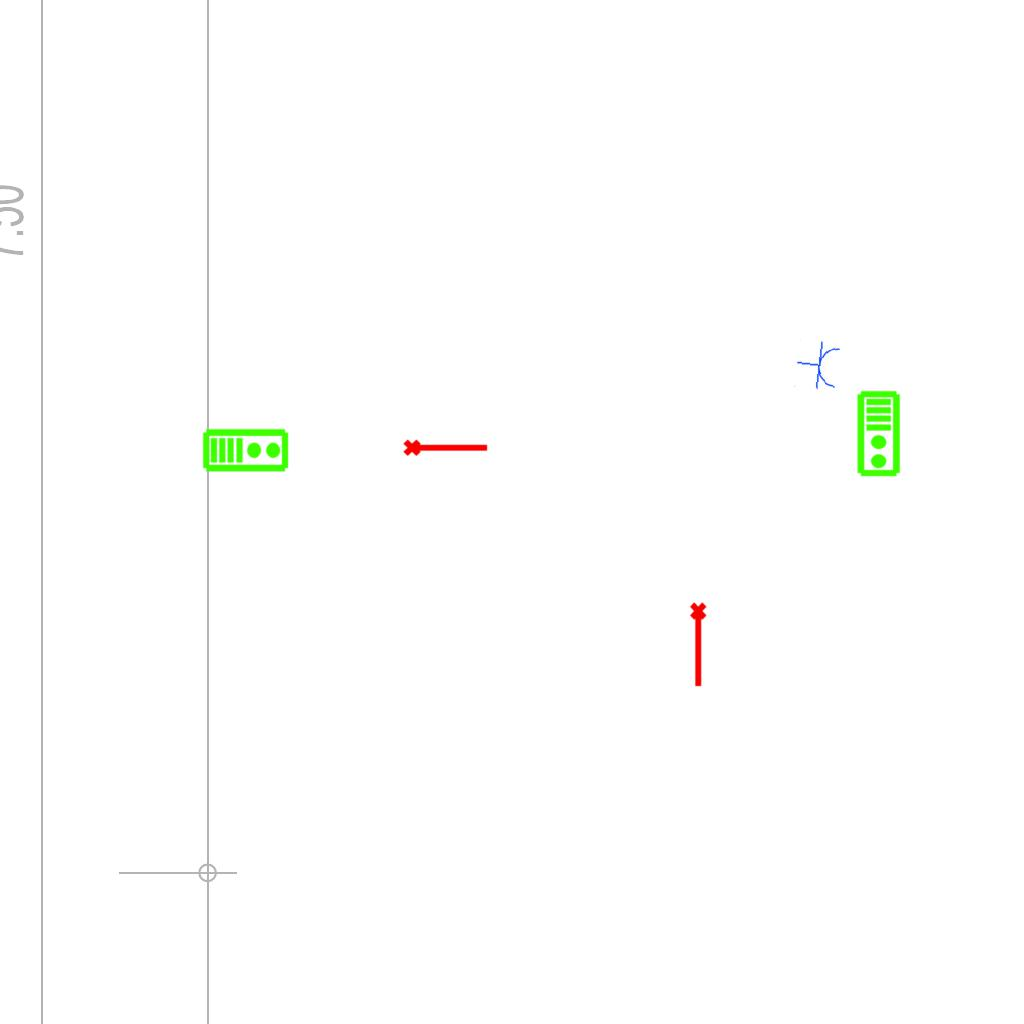ASR_Ansaugoeffnung: (402, 435, 490, 458), (688, 601, 711, 689)
Gegensprechanlage_mit_Video: (202, 426, 290, 473), (856, 390, 903, 478)
Schukosteckdose_einfach: (793, 338, 843, 393)
